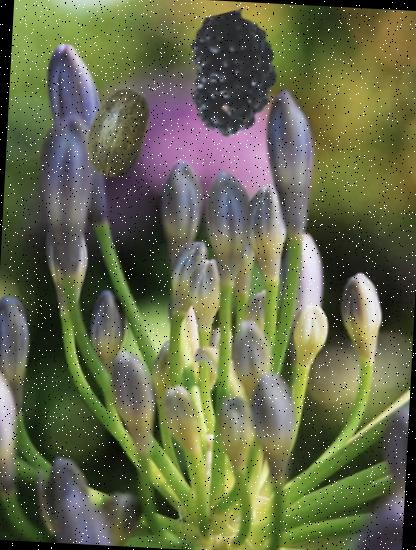Melon: (71, 83, 168, 180)
Mulberry: (168, 10, 296, 137)
